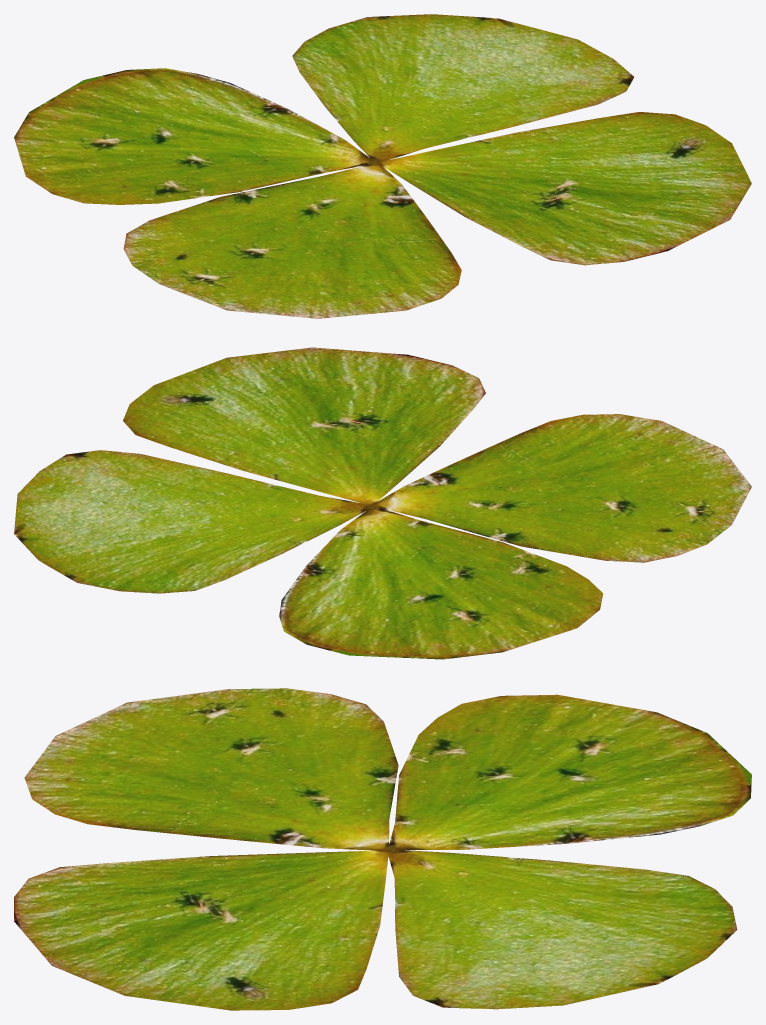
File: Duckweed.fbx
The picture shows the model from 3 angles, top to bottom: view 1: azimuth 30°, elevation 25°; view 2: azimuth 150°, elevation 25°; view 3: azimuth 270°, elevation 25°; orthographic projection. The views are drawn at different scales.
Parts seen in each view (by area): view 1: Duck_weed_leaf; view 2: Duck_weed_leaf; view 3: Duck_weed_leaf.
Part boxes in pixels (x1,y1,x2,y2): Duck_weed_leaf: (14, 14, 751, 318); Duck_weed_leaf: (14, 347, 751, 659); Duck_weed_leaf: (14, 688, 751, 1010).
Size of the model in its own units: 32.34 by 0 by 31.31.
1 material, 1 textured.
